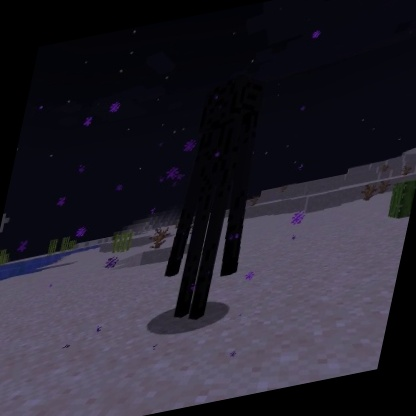enderman: (146, 66, 284, 333)
